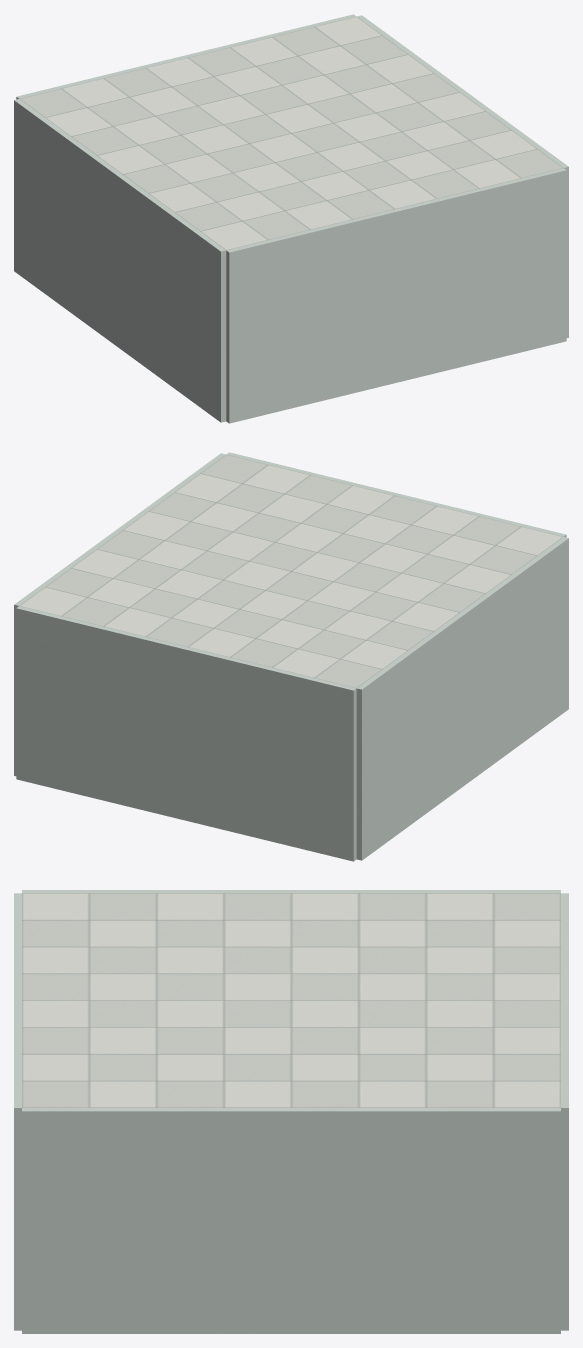
File: room-ADDR-K05-F03-318.glb
3 renders of one model, top to bottom at view 1: azimuth 30°, elevation 25°; view 2: azimuth 150°, elevation 25°; view 3: azimuth 270°, elevation 25°, orthographic. The views are drawn at different scales.
Parts seen in each view (by area): view 1: room-ADDR-K05-F03-318-mesh (×5); view 2: room-ADDR-K05-F03-318-mesh (×5); view 3: room-ADDR-K05-F03-318-mesh (×5).
Part boxes in pixels (left/top/right/bottom): room-ADDR-K05-F03-318-mesh (×5): left=14, top=14, right=568, bottom=423; room-ADDR-K05-F03-318-mesh (×5): left=14, top=452, right=568, bottom=861; room-ADDR-K05-F03-318-mesh (×5): left=14, top=890, right=568, bottom=1333.
Bounding box in the file's own units: 6.6 × 3.1 × 7.
Materials: 19 (7 with a texture image).
